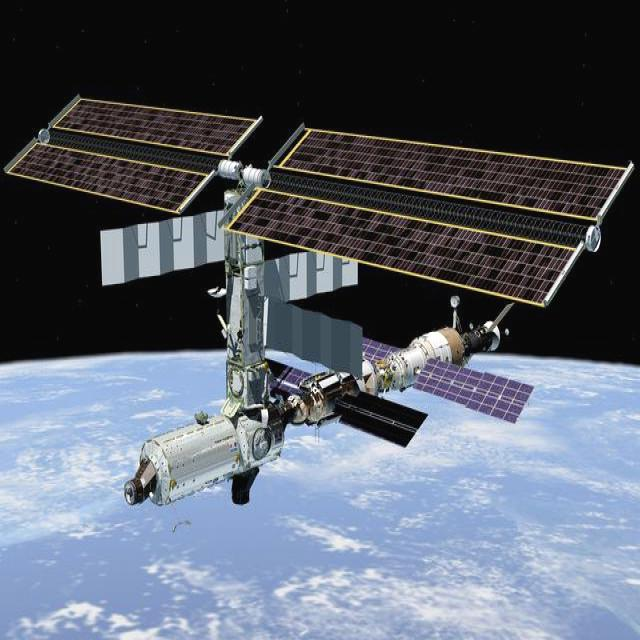satellite: (5, 97, 632, 505)
